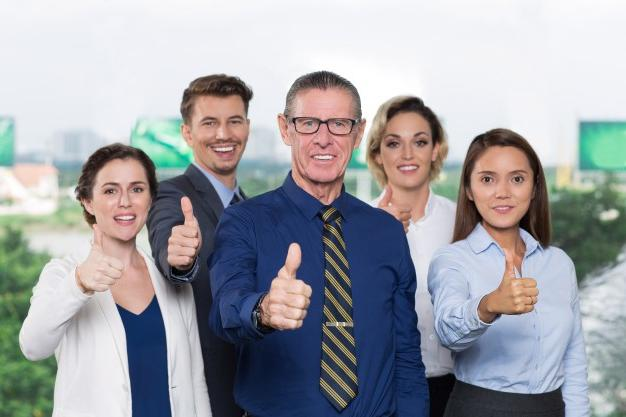thumbsup: (268, 242, 313, 329), (502, 247, 539, 314), (167, 195, 199, 267), (92, 223, 125, 292), (385, 186, 412, 234)
